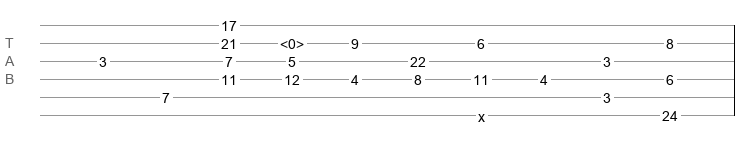11: (221, 72, 237, 82), (473, 72, 489, 82)
12: (284, 72, 300, 82)
17: (221, 18, 237, 28)
21: (221, 36, 237, 46)
22: (410, 54, 426, 64)
24: (662, 108, 678, 118)
3: (99, 54, 107, 64), (603, 54, 611, 64), (603, 90, 611, 100)
4: (351, 72, 359, 82), (540, 72, 548, 82)
5: (288, 54, 296, 64)
6: (477, 36, 485, 46), (666, 72, 674, 82)
7: (162, 90, 170, 100), (225, 54, 233, 64)
8: (414, 72, 422, 82), (666, 36, 674, 46)
9: (351, 36, 359, 46)
harmonic: (280, 36, 304, 46)
x: (478, 109, 485, 117)
